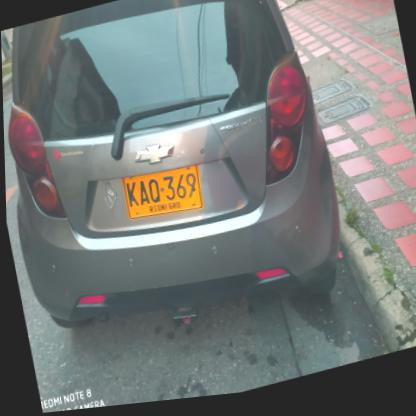placa: (114, 155, 209, 235)
